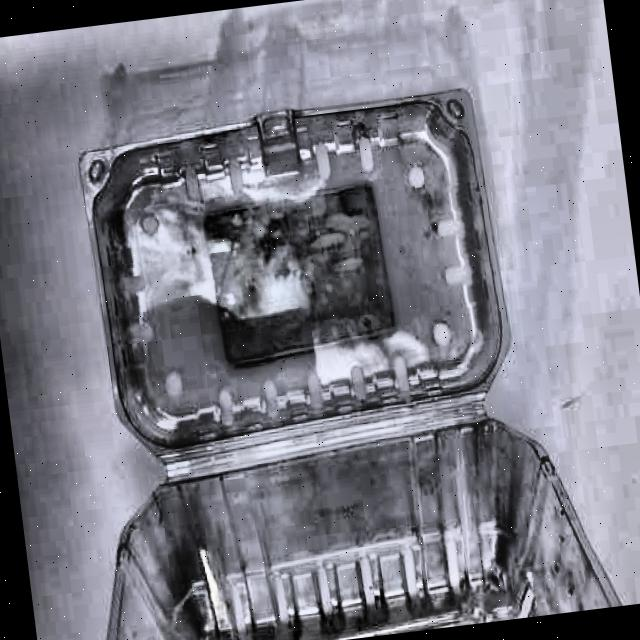plastic: (28, 81, 566, 640)
